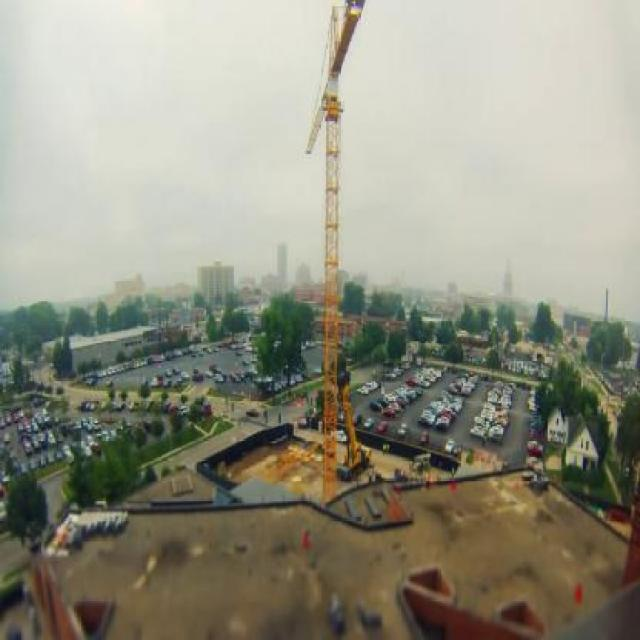Mobile Crane: (335, 344, 370, 478)
